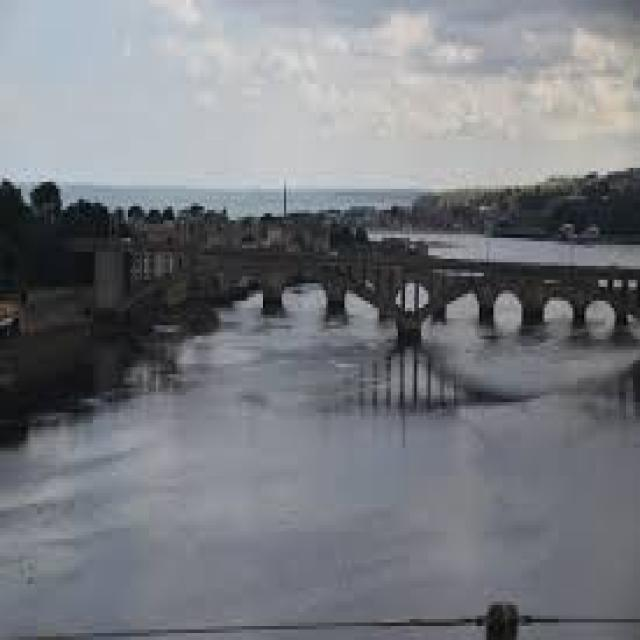Bridges: (63, 171, 640, 442)
